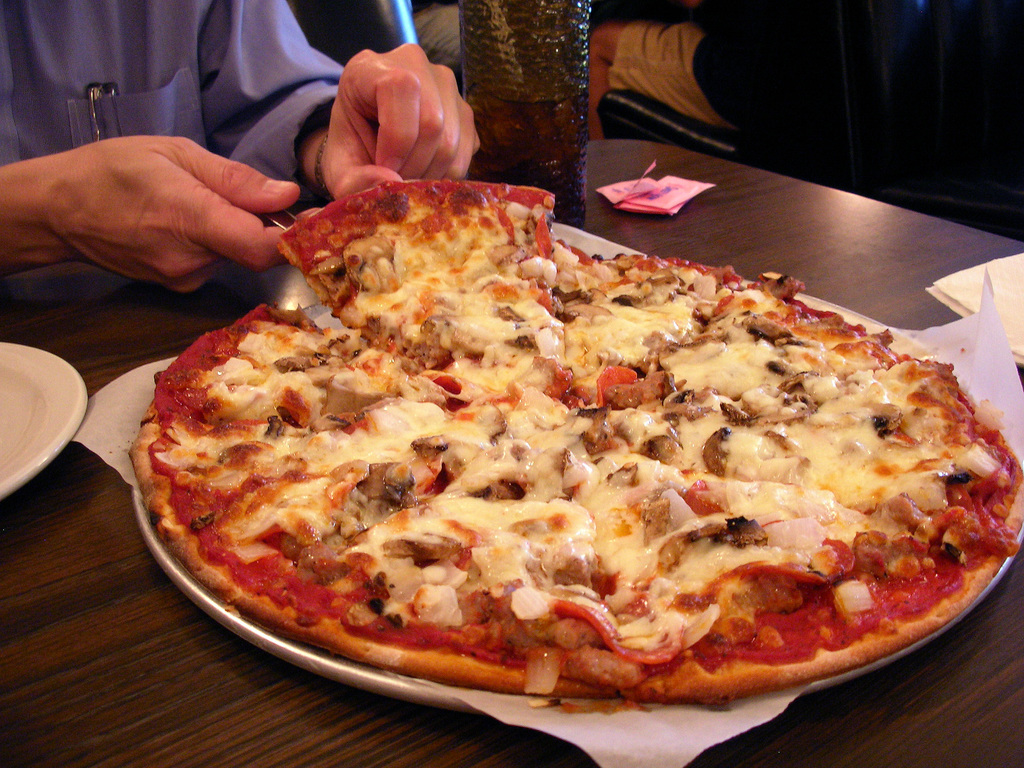Pizza: (133, 175, 1023, 705)
